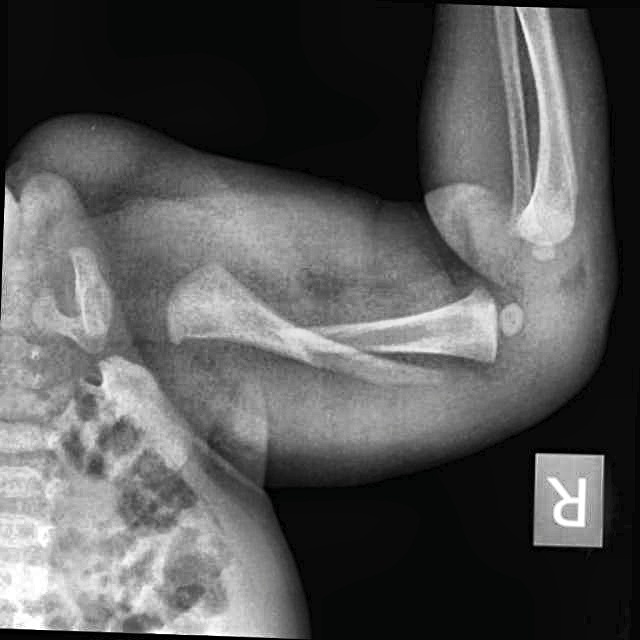Spiral: (271, 310, 473, 398)
